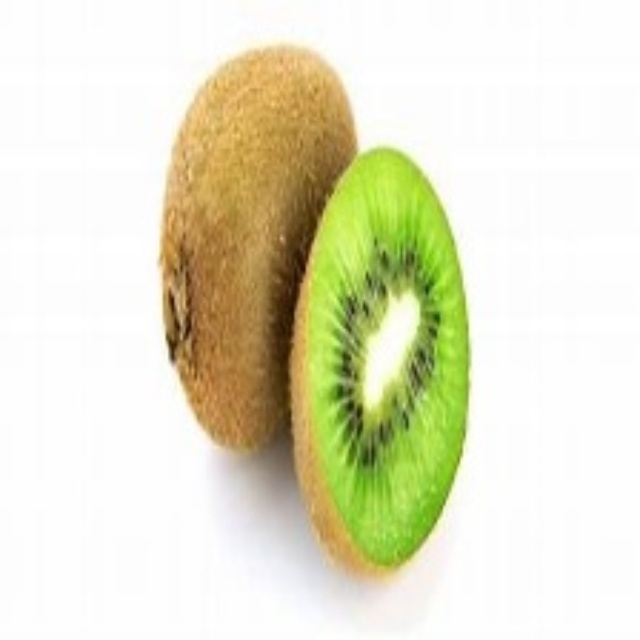kiwi: (275, 138, 486, 593), (143, 39, 370, 460)
